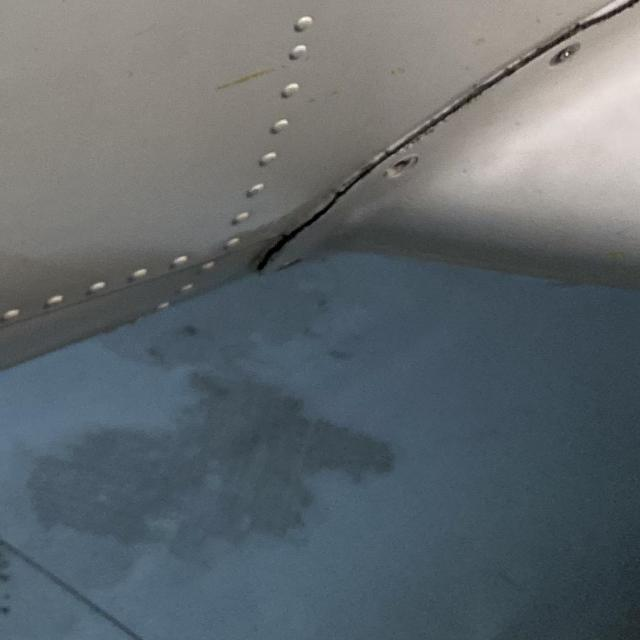Crack: (403, 13, 619, 145), (250, 157, 384, 274), (575, 0, 640, 32)
Missing-head: (389, 155, 421, 181)
